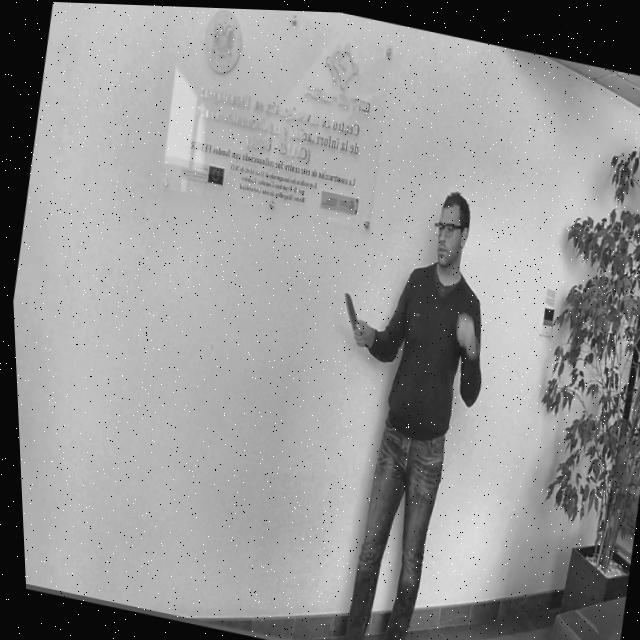knife: (334, 287, 360, 329)
